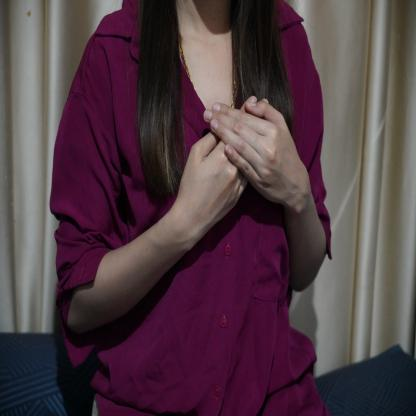Grieve: (150, 92, 325, 259)
